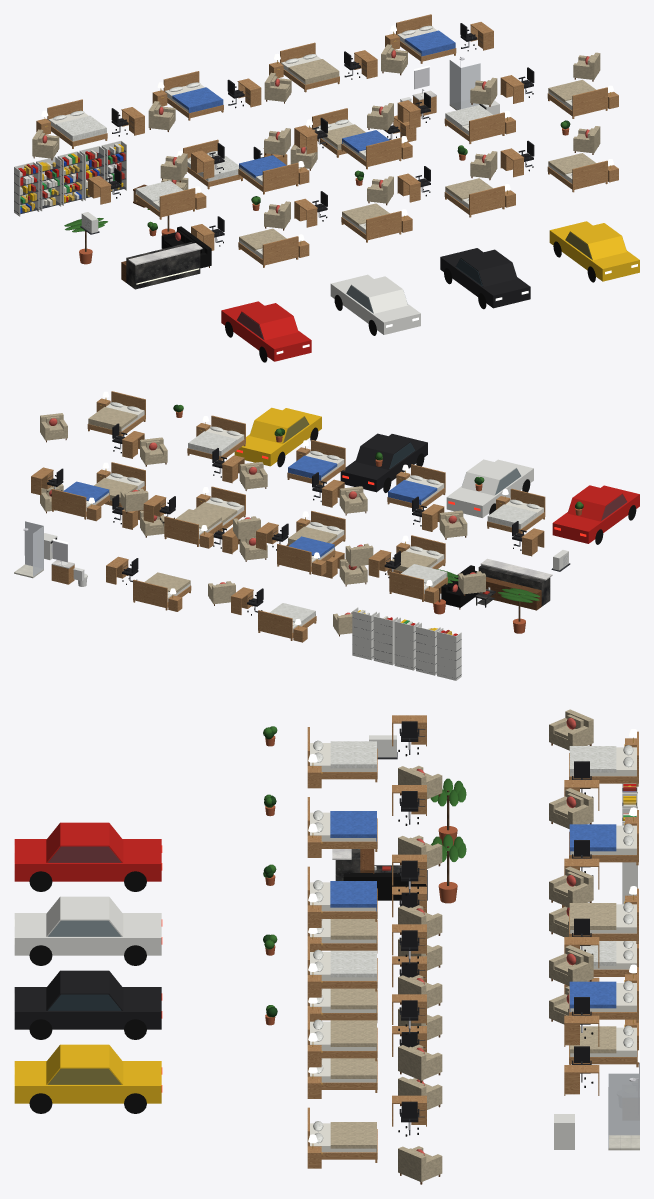
The model's file is i_seaview_motel.gltf.
3 renders of one model, top to bottom at view 1: azimuth 30°, elevation 25°; view 2: azimuth 150°, elevation 25°; view 3: azimuth 270°, elevation 25°, orthographic. The views are drawn at different scales.
Parts seen in each view (by area): view 1: I_seaview_motel; view 2: I_seaview_motel; view 3: I_seaview_motel.
Boxes of the visible parts, x1=… form: I_seaview_motel: x1=14, y1=14, x2=639, y2=362; I_seaview_motel: x1=14, y1=391, x2=639, y2=680; I_seaview_motel: x1=14, y1=709, x2=639, y2=1184.
Bounding box in the file's own units: 24.15 × 4.25 × 17.88.
Materials: 37 (11 with a texture image).
